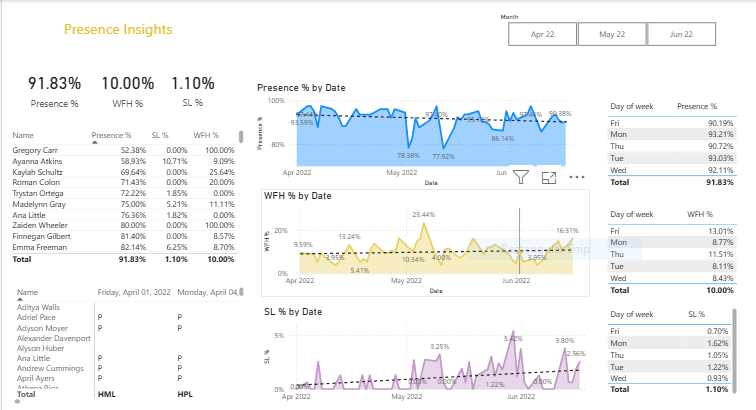

The page's visual inventory and layout, read from the dashboard file:
{"tool":"powerbi","page":{"name":"Page 1","canvas":[1280,720],"ordinal":0},"visuals":[{"type":"card","fields":{"Values":["Measure Table.Presence %"]},"box":[26.9,105.8,122.6,85.7],"z":0},{"type":"slicer","fields":{"Values":["Final Data.Month"]},"box":[825.9,16.8,398.6,67.3],"z":1000},{"type":"card","fields":{"Values":["Measure Table.WFH %"]},"box":[154.7,111,112.7,75.7],"z":2000},{"type":"card","fields":{"Values":["Measure Table.SL %"]},"box":[267.4,112.7,106,70.6],"z":3000},{"type":"tableEx","fields":{"Values":["Final Data.Name","Measure Table.Presence %","Measure Table.SL %","Measure Table.WFH %"]},"box":[6.7,213.6,405.4,235.5],"z":4000},{"type":"textbox","box":[52.1,26.9,285.9,45.4],"z":5000},{"type":"pivotTable","fields":{"Rows":["Final Data.Name"],"Values":["Min(Final Data.Value)"],"Columns":["Final Data.Date"]},"box":[15.1,477.7,397,206.9],"z":6000},{"type":"areaChart","fields":{"Category":["Final Data.Date"],"Y":["Measure Table.Presence %"]},"box":[423.9,136.2,553.4,181.7],"z":7000},{"type":"areaChart","fields":{"Category":["Final Data.Date"],"Y":["Measure Table.WFH %"]},"box":[435.6,317.9,553.4,181.7],"z":8000},{"type":"areaChart","fields":{"Category":["Final Data.Date"],"Y":["Measure Table.SL %"]},"box":[435.6,513,565.2,171.6],"z":9000},{"type":"tableEx","fields":{"Values":["Final Data.Day of week","Measure Table.Presence %"]},"box":[1012.6,163.2,228.8,168.2],"z":10000},{"type":"tableEx","fields":{"Values":["Final Data.Day of week","Measure Table.WFH %"]},"box":[1012.6,344.8,228.8,168.2],"z":11000},{"type":"tableEx","fields":{"Values":["Final Data.Day of week","Measure Table.SL %"]},"box":[1012.6,513,228.8,156.4],"z":11001}]}

Visuals, with their boxes on the page's 1280x720 design canvas (x1, y1, x2, y2). These are canvas units, not pixel positions in the 756x410 screenshot, which may show the page scaled, cropped or inside an application window:
card - Measure Table.Presence %: 27, 106, 150, 192
slicer - Final Data.Month: 826, 17, 1224, 84
card - Measure Table.WFH %: 155, 111, 267, 187
card - Measure Table.SL %: 267, 113, 373, 183
tableEx - Final Data.Name x Measure Table.Presence %: 7, 214, 412, 449
textbox: 52, 27, 338, 72
pivotTable - Final Data.Name x Min(Final Data.Value): 15, 478, 412, 685
areaChart - Final Data.Date x Measure Table.Presence %: 424, 136, 977, 318
areaChart - Final Data.Date x Measure Table.WFH %: 436, 318, 989, 500
areaChart - Final Data.Date x Measure Table.SL %: 436, 513, 1001, 685
tableEx - Final Data.Day of week x Measure Table.Presence %: 1013, 163, 1241, 331
tableEx - Final Data.Day of week x Measure Table.WFH %: 1013, 345, 1241, 513
tableEx - Final Data.Day of week x Measure Table.SL %: 1013, 513, 1241, 669
